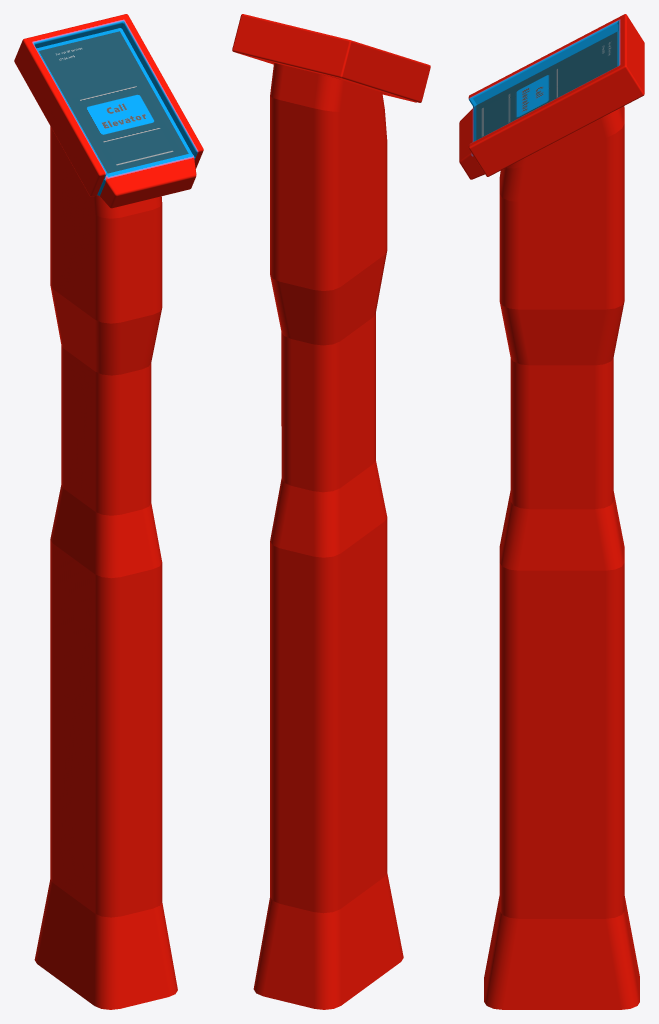
File: SSCLiftControl1.fbx
3 views of the same model, side by side, from view 1: azimuth 30°, elevation 25°; view 2: azimuth 150°, elevation 25°; view 3: azimuth 270°, elevation 25° (orthographic). The views are drawn at different scales.
Visible parts, largest first — view 1: SSCLiftControl1; view 2: SSCLiftControl1; view 3: SSCLiftControl1.
Part boxes in pixels (<box>): SSCLiftControl1: <box>14,14,203,1009</box>; SSCLiftControl1: <box>232,14,430,1009</box>; SSCLiftControl1: <box>459,14,644,1009</box>.
Bounding box in the file's own units: 13 × 109 × 19.28.
